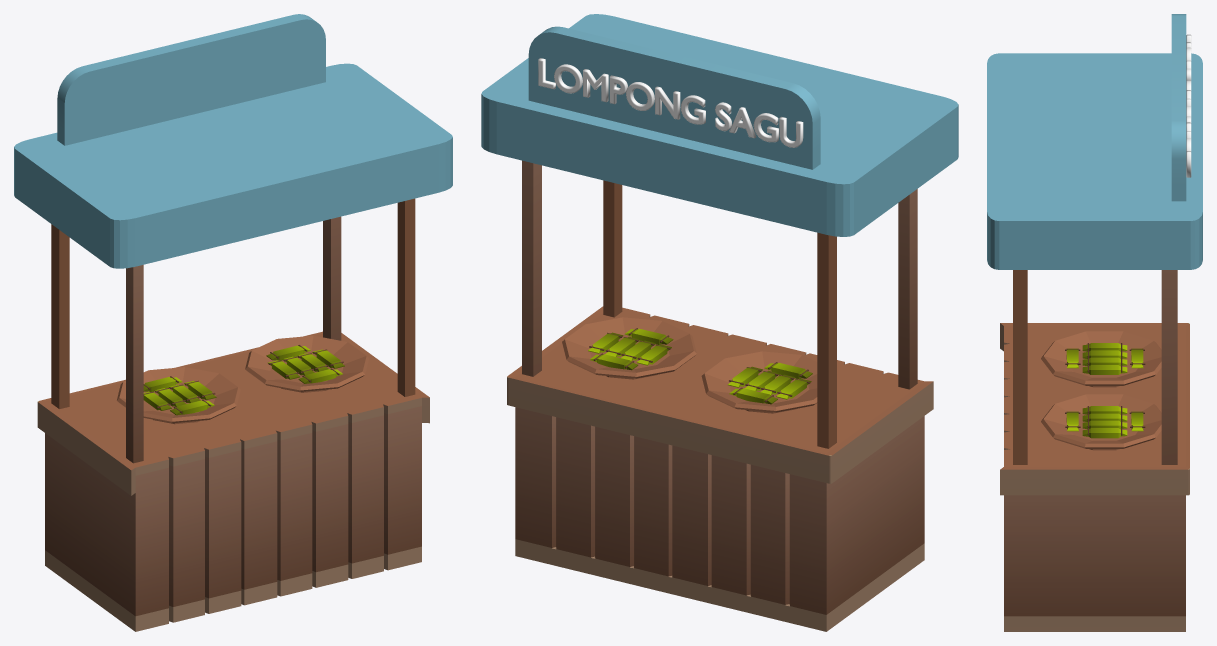
File: Tenant Kue Lompong Sagu .fbx
3 renders of one model, left to right at view 1: azimuth 30°, elevation 25°; view 2: azimuth 150°, elevation 25°; view 3: azimuth 270°, elevation 25°, orthographic. The views are drawn at different scales.
Parts seen in each view (by area): view 1: Cube.039, Cube.002; view 2: Cube.039, Cube.002, Text; view 3: Cube.039, Cube.002, Text.
Part boxes in pixels (x1=…): Cube.039: x1=14, y1=63, x2=452, y2=631; Cube.002: x1=57, y1=14, x2=325, y2=145; Cube.039: x1=481, y1=14, x2=958, y2=631; Cube.002: x1=528, y1=26, x2=820, y2=169; Text: x1=538, y1=58, x2=803, y2=147; Cube.039: x1=987, y1=53, x2=1202, y2=631; Cube.002: x1=1171, y1=14, x2=1186, y2=201; Text: x1=1186, y1=34, x2=1191, y2=177.
Size of the model in its own units: 478 by 656 by 260.
